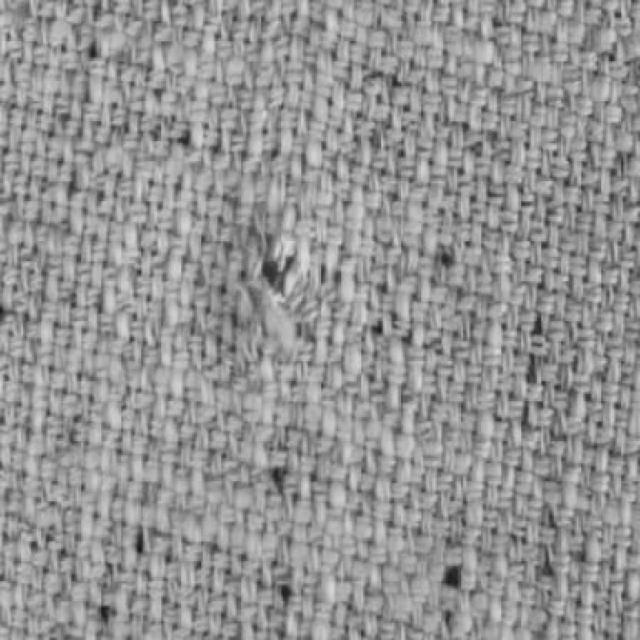seam: (150, 148, 406, 394)
